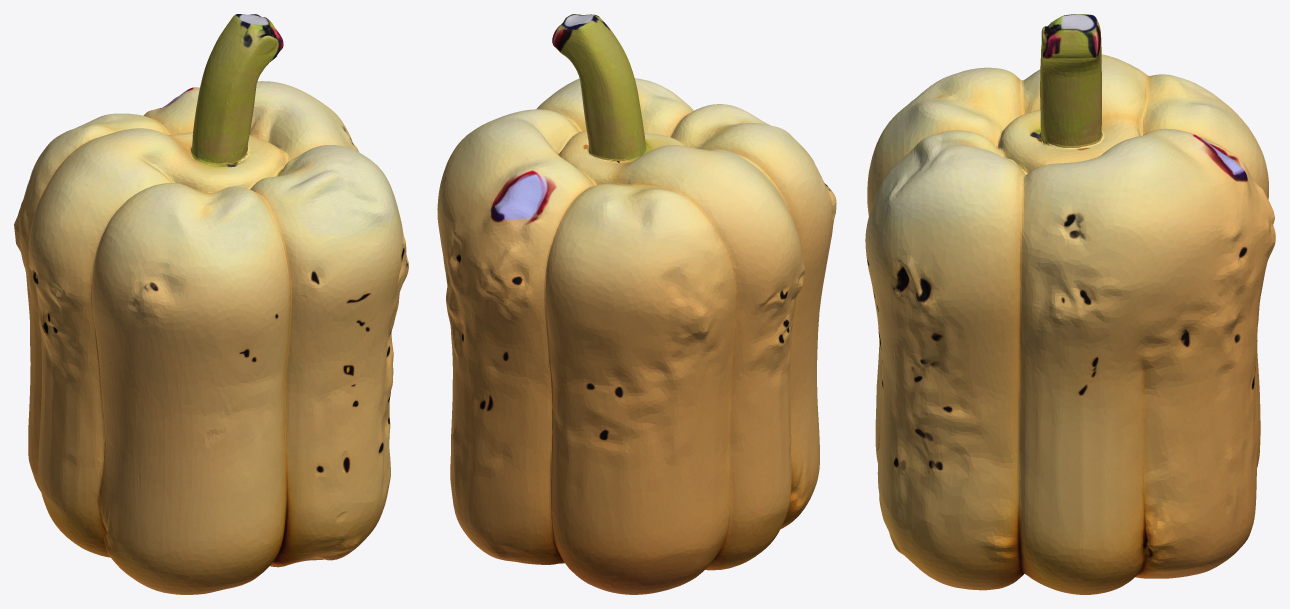
Rendered from image_0002_segmented.glb.
The picture shows the model from 3 angles, left to right: view 1: azimuth 30°, elevation 25°; view 2: azimuth 150°, elevation 25°; view 3: azimuth 270°, elevation 25°; orthographic projection. The views are drawn at different scales.
Visible parts, largest first — view 1: tmpphsfyjs6.ply; view 2: tmpphsfyjs6.ply; view 3: tmpphsfyjs6.ply.
Boxes of the visible parts, x1,y1,x2,y2 form: tmpphsfyjs6.ply: (14, 14, 408, 594); tmpphsfyjs6.ply: (437, 14, 836, 594); tmpphsfyjs6.ply: (865, 14, 1275, 594).
Size of the model in its own units: 1.34 by 1.99 by 1.33.
1 material, 1 textured.
